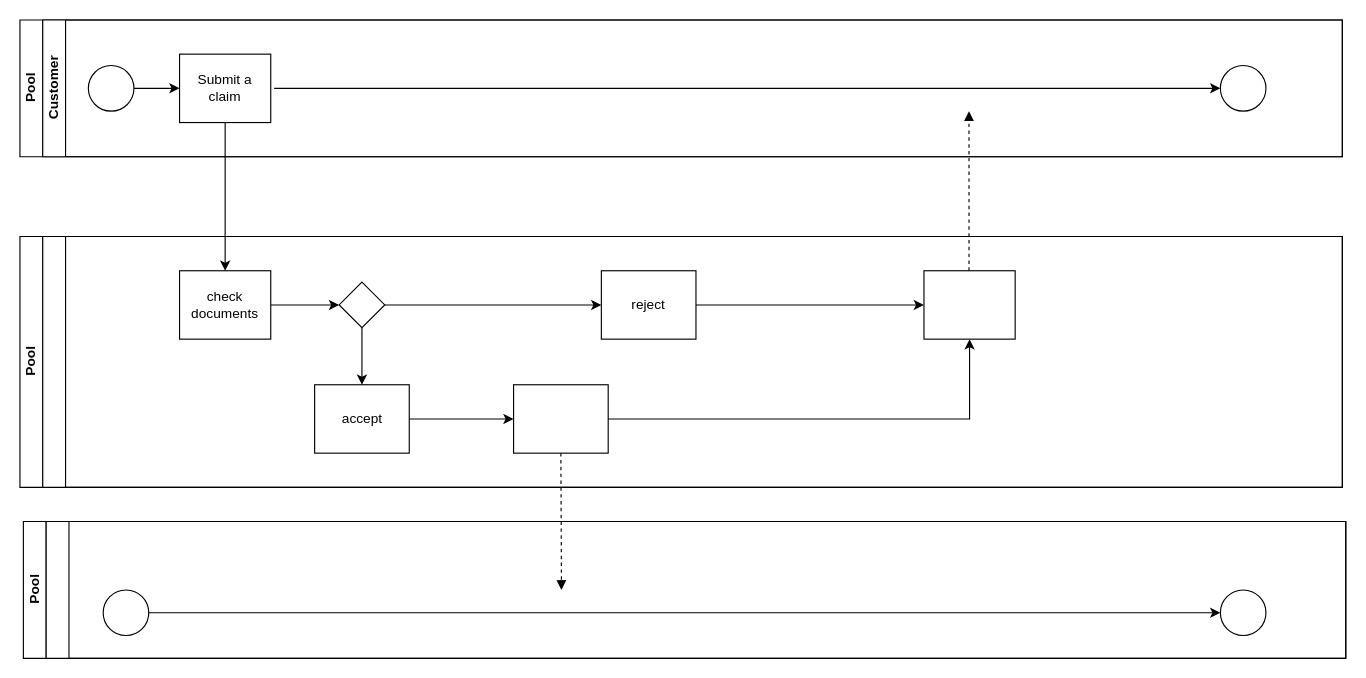
The diagram is 1366 pixels wide and 678 high, and some of its shapes have lost their labels. Here are the shapes that lost their labels. From the top down, the box of each, then its label:
(923, 270, 1015, 339): email notify the outcome
(42, 235, 1342, 487): Customer Service
(512, 384, 608, 453): Phone
(45, 520, 1346, 658): A garage
